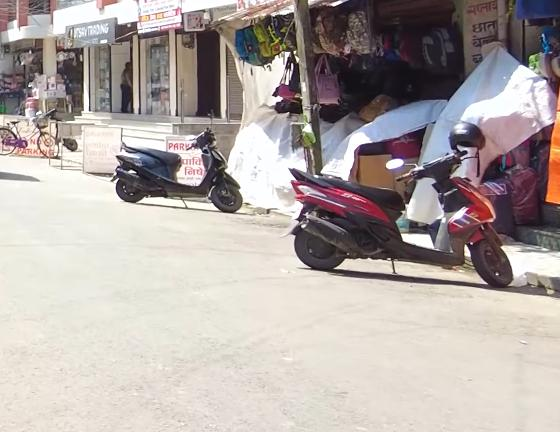scooter: (288, 144, 526, 298), (99, 121, 249, 213)
